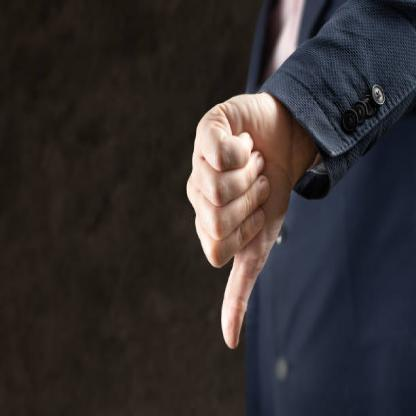thumb_down: (184, 91, 288, 352)
